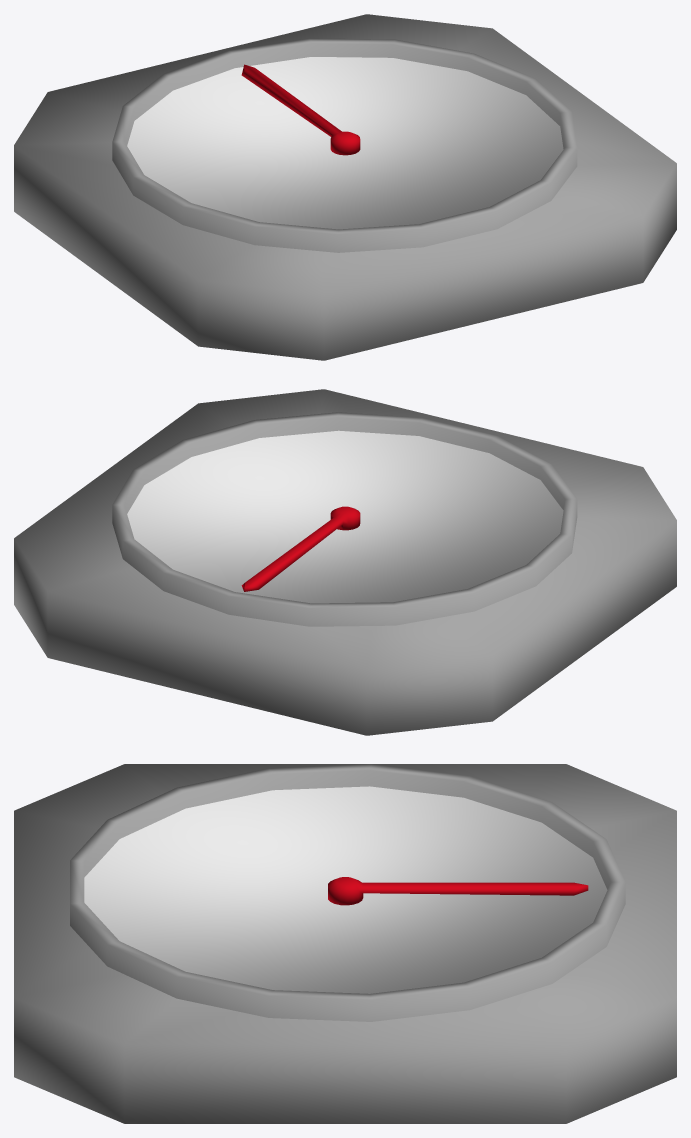
File: viisari.fbx
3 views of the same model, one above another, from view 1: azimuth 30°, elevation 25°; view 2: azimuth 150°, elevation 25°; view 3: azimuth 270°, elevation 25° (orthographic). The views are drawn at different scales.
Parts seen in each view (by area): view 1: alusta, viisari; view 2: alusta, viisari; view 3: alusta, viisari.
Boxes of the visible parts, bbox=[...] form: alusta: bbox=[14, 14, 676, 360]; viisari: bbox=[241, 64, 360, 155]; alusta: bbox=[14, 389, 676, 735]; viisari: bbox=[241, 506, 360, 591]; alusta: bbox=[14, 764, 676, 1123]; viisari: bbox=[328, 877, 588, 905].
Size of the model in its own units: 2 by 0.3424 by 2.
